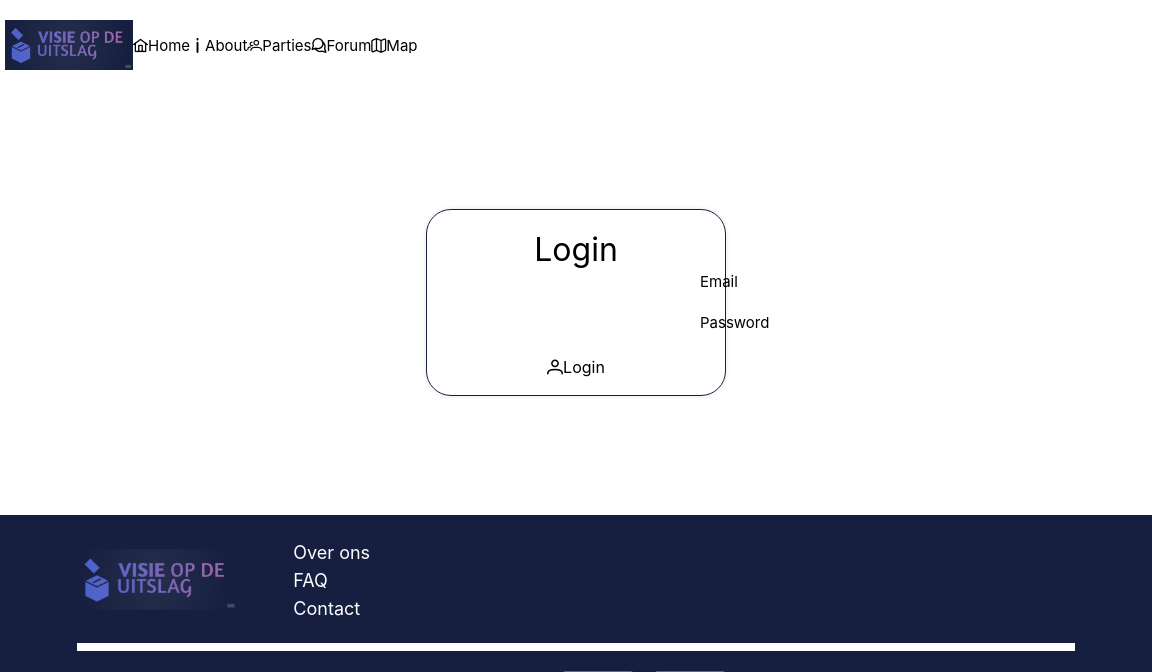
Test: login page › should give back an error when the user the user puts in wrong data
This screenshot has width=1152, height=672.
In the element with test id "loginPasswordInput": (576, 327) [452,315,700,339], type "1234"
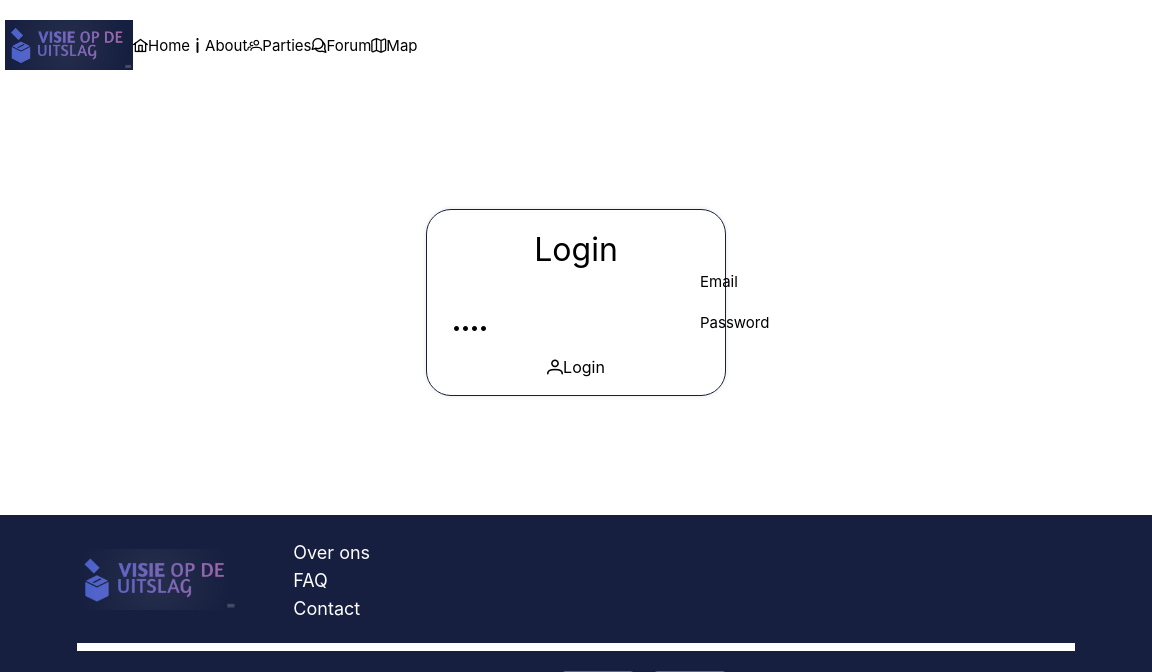
In the field with test id "loginEmailInput": (576, 286) [452,274,700,298], type "1234"
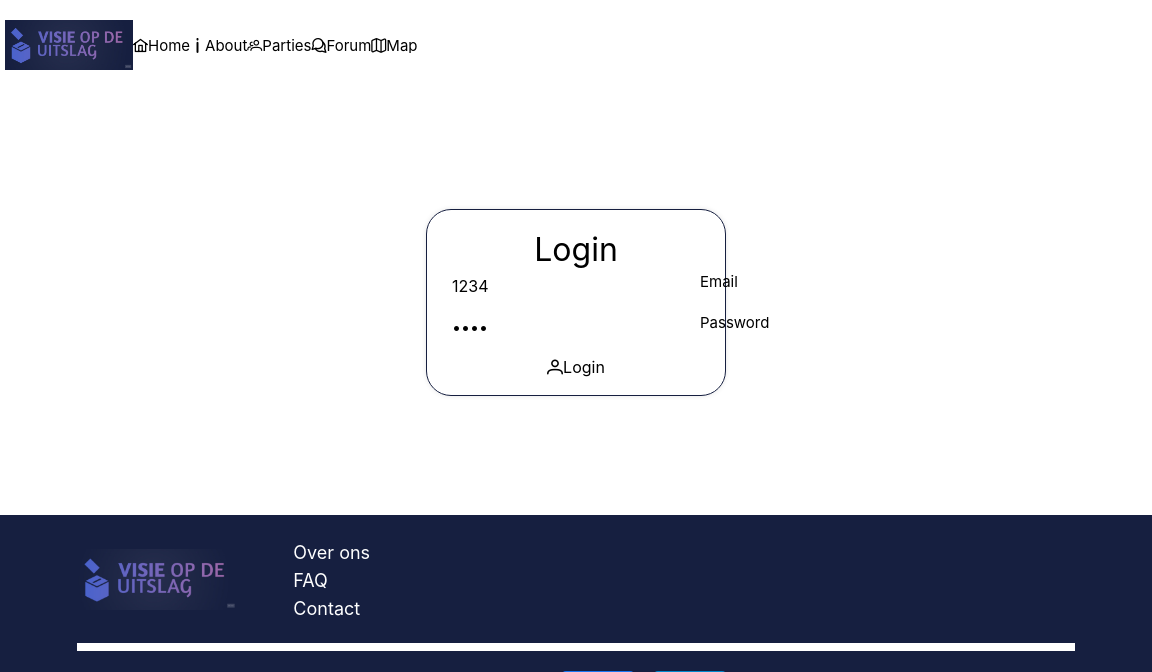
Click the button with test id "loginSubmit": (576, 367) [547,355,605,379]
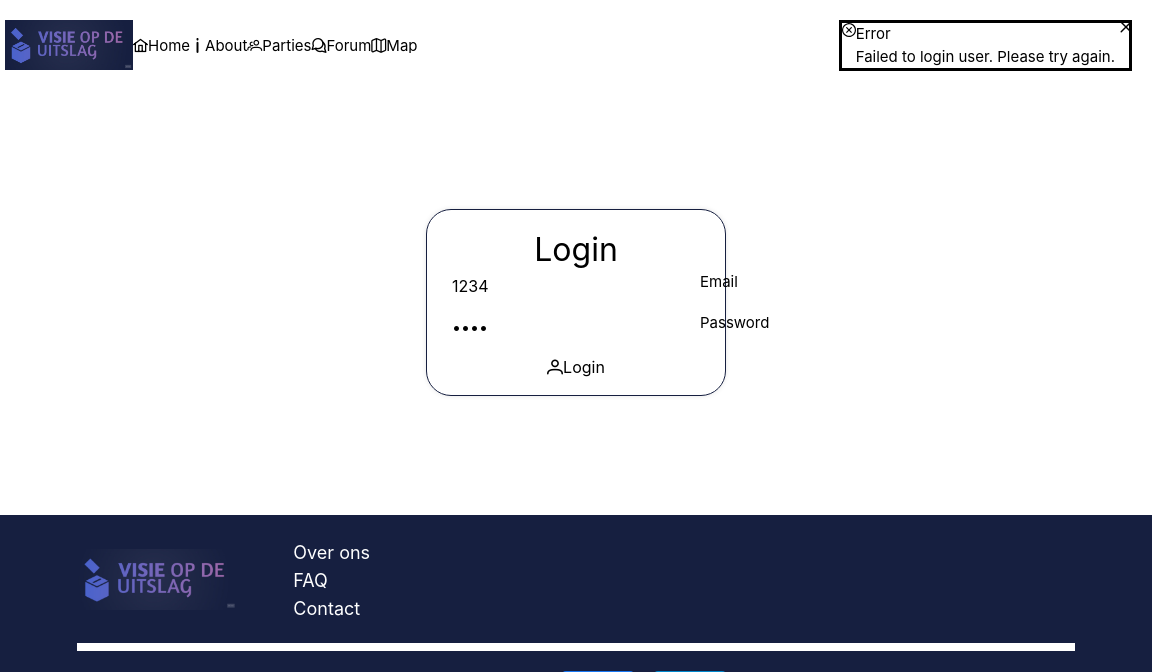
expect the element showing "Error Failed to login user. Please try again." is shown: met, box [839,20,1132,87]
expect the text "Error" is shown: met, box [856,24,891,43]
expect the text "Failed to login user. Please try again." is shown: met, box [856,46,1115,68]
